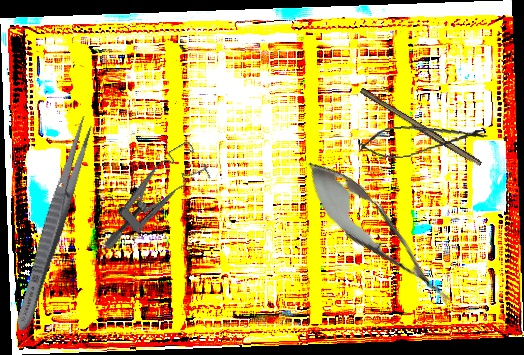Dressing Forceps: (10, 113, 98, 334)
Micro Scissor: (290, 147, 467, 321), (355, 116, 490, 163)
Scalpel Handle: (357, 87, 484, 169)
Speculum: (80, 138, 219, 252)
